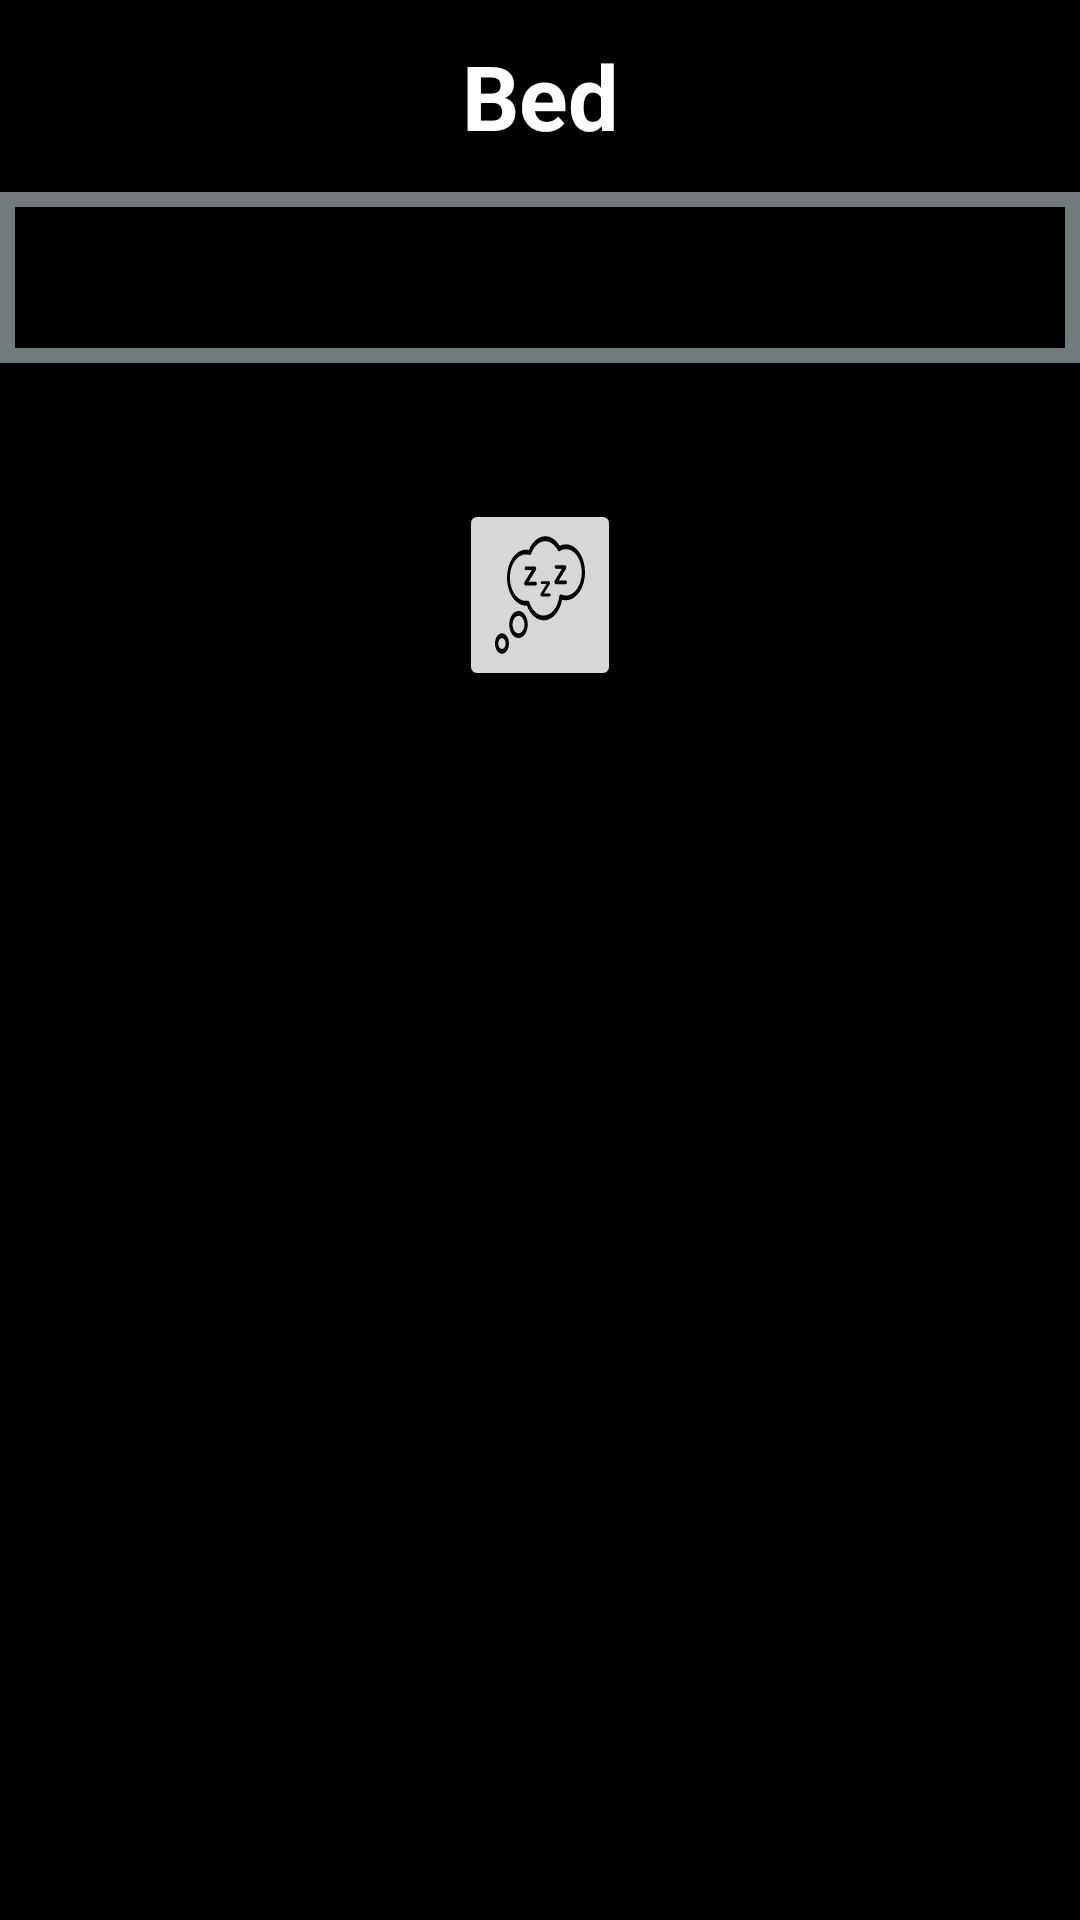

Where icons sit on this 1080×1920 app screen, as (x1, y1, x2, y2):
sleep: (471, 517, 609, 673)
